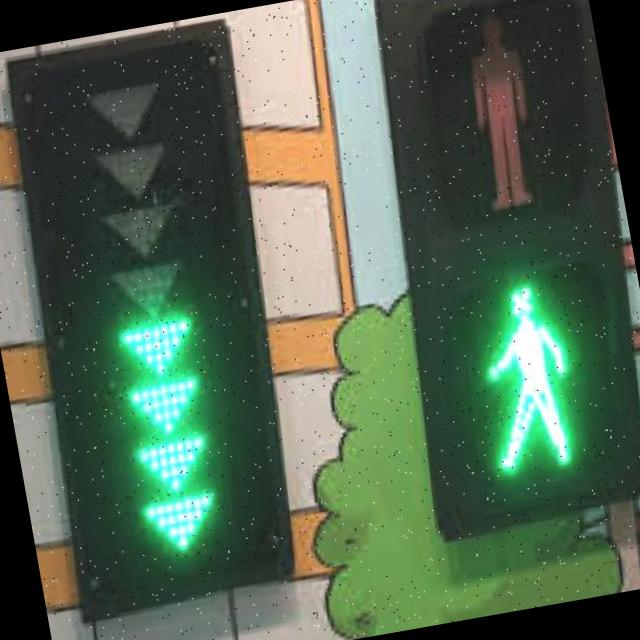green_light: (440, 257, 627, 517)
